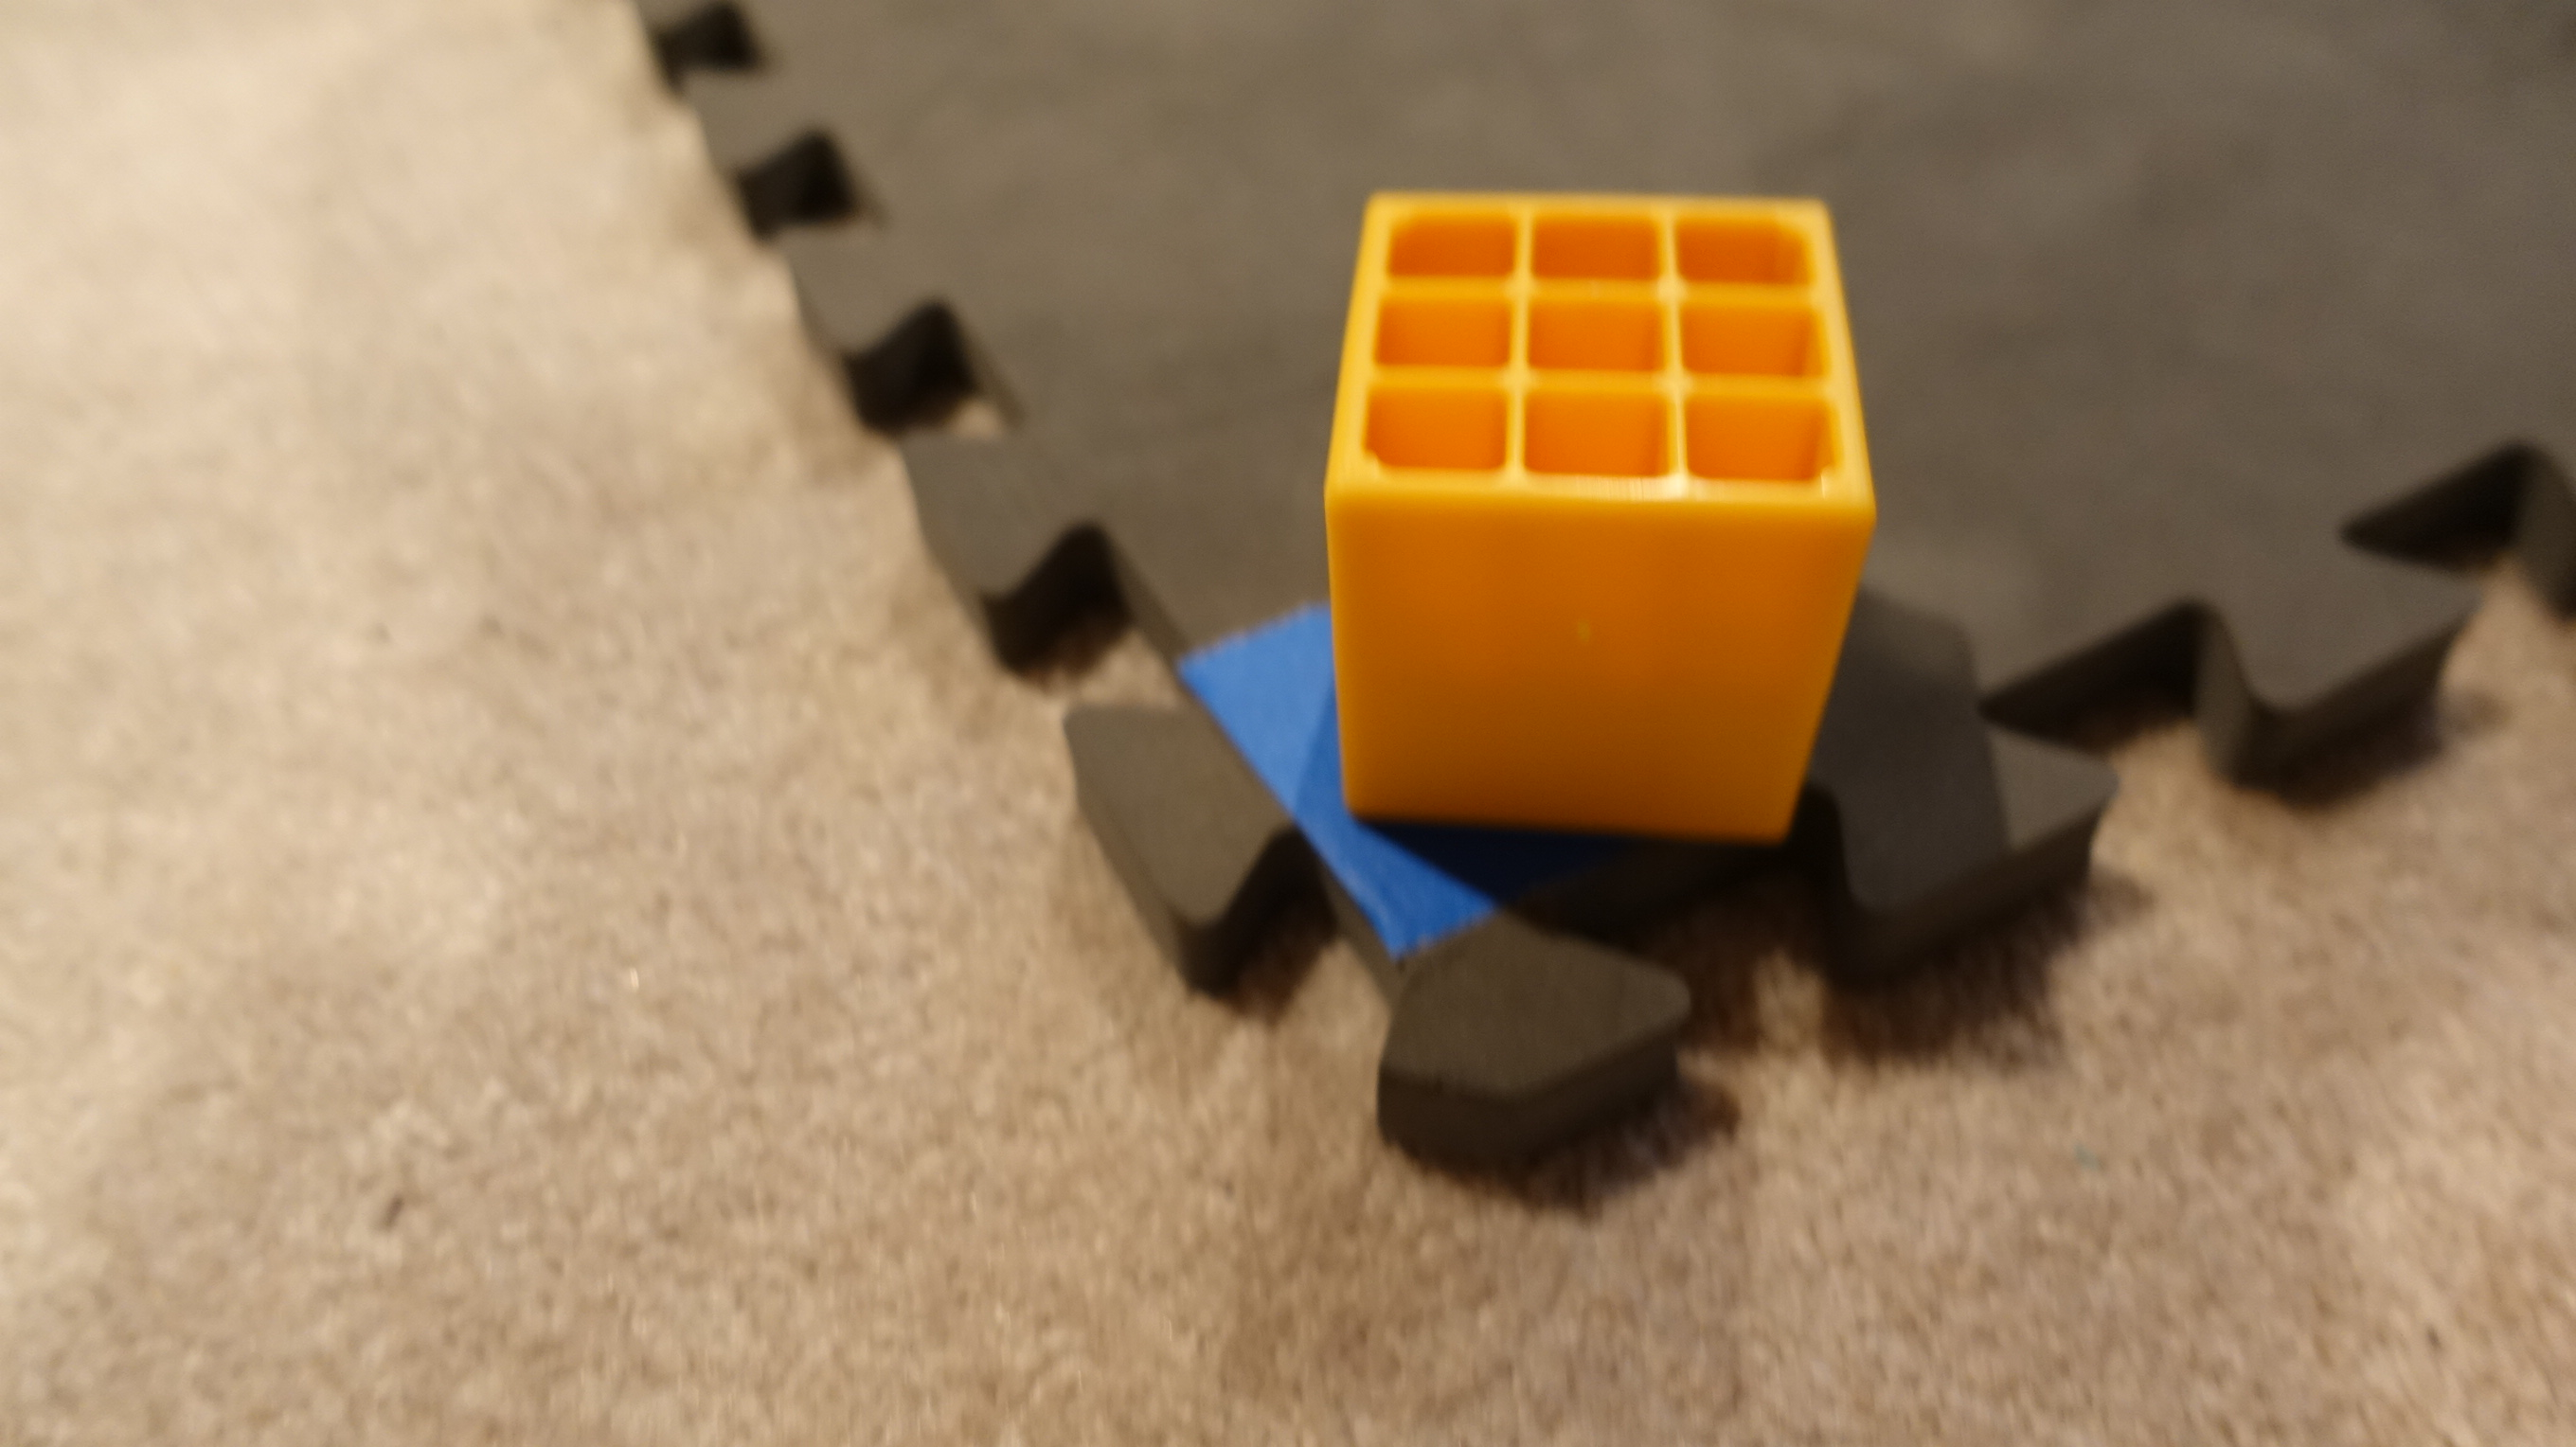gold: (1313, 175, 1891, 847)
